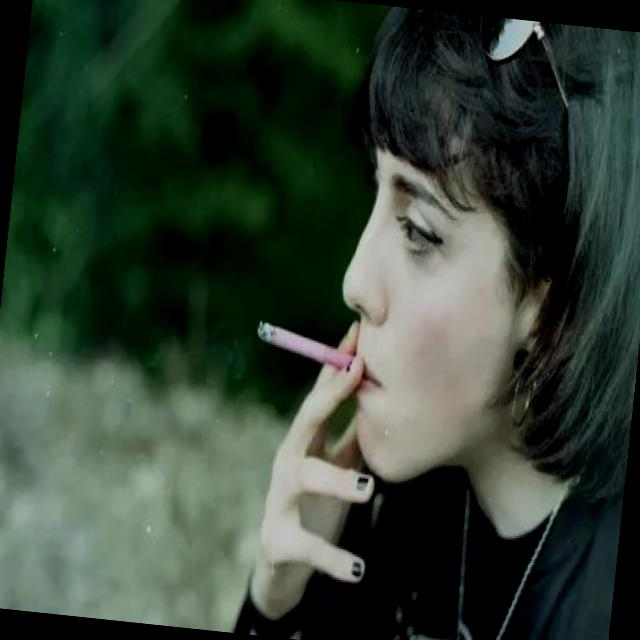smoke: (251, 312, 380, 389)
